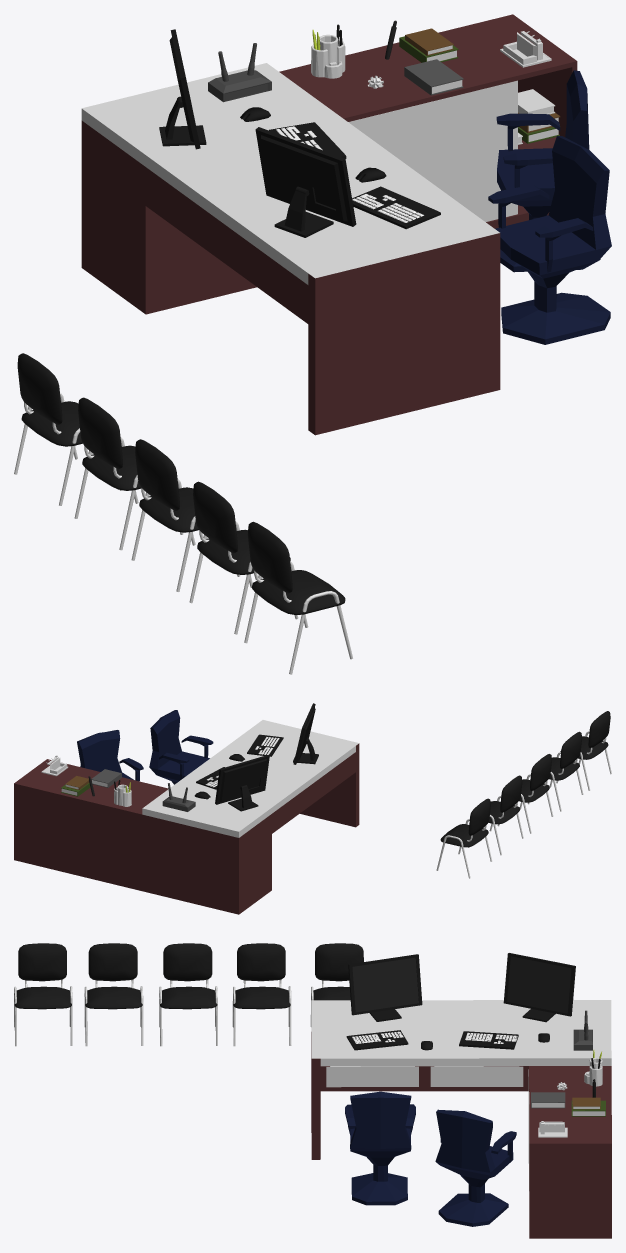
The model's file is recepcion.fbx.
The picture shows the model from 3 angles, top to bottom: view 1: azimuth 30°, elevation 25°; view 2: azimuth 150°, elevation 25°; view 3: azimuth 270°, elevation 25°; orthographic projection. The views are drawn at different scales.
Parts seen in each view (by area): view 1: off table, Cube.005, cuboard door, monitor.001, Cube.000, Chair01.001, cuboard door1, Chair01.005, Chair01.003, Chair01.004, Chair01.002, monitor (+5 smaller); view 2: off table, Cube.005, monitor, Cube.000, Chair01.005, Chair01.004, Chair01.002, Chair01.003, Chair01.001, monitor.001, keyboard.001, wifi (+3 smaller); view 3: off table, Cube.000, Cube.005, monitor.001, draw 1, monitor, Chair01.002, Chair01.004, Chair01.003, Chair01.001, Chair01.005, keyboard (+4 smaller).
Part boxes in pixels (bbox=[...]): off table: bbox=[81, 14, 577, 435]; Cube.005: bbox=[488, 136, 611, 344]; cuboard door: bbox=[442, 80, 517, 221]; monitor.001: bbox=[255, 127, 356, 237]; Cube.000: bbox=[496, 70, 600, 272]; Chair01.001: bbox=[244, 521, 352, 674]; cuboard door1: bbox=[348, 99, 442, 190]; Chair01.005: bbox=[14, 353, 121, 505]; Chair01.003: bbox=[131, 439, 240, 591]; Chair01.004: bbox=[74, 397, 183, 550]; Chair01.002: bbox=[189, 481, 298, 634]; monitor: bbox=[159, 29, 206, 149]; off table: bbox=[14, 720, 359, 914]; Cube.005: bbox=[149, 710, 213, 784]; monitor: bbox=[215, 755, 269, 811]; Cube.000: bbox=[77, 730, 143, 781]; Chair01.005: bbox=[436, 798, 492, 878]; Chair01.004: bbox=[468, 775, 523, 855]; Chair01.002: bbox=[527, 731, 583, 811]; Chair01.003: bbox=[497, 754, 553, 833]; Chair01.001: bbox=[556, 711, 611, 790]; monitor.001: bbox=[293, 703, 318, 764]; keyboard.001: bbox=[247, 734, 283, 756]; wifi: bbox=[162, 783, 195, 811]; off table: bbox=[311, 1000, 611, 1238]; Cube.000: bbox=[435, 1109, 516, 1226]; Cube.005: bbox=[345, 1091, 415, 1205]; monitor.001: bbox=[348, 954, 422, 1021]; draw 1: bbox=[326, 1066, 523, 1087]; monitor: bbox=[503, 953, 575, 1022]; Chair01.002: bbox=[84, 943, 143, 1046]; Chair01.004: bbox=[232, 943, 291, 1046]; Chair01.003: bbox=[159, 943, 217, 1046]; Chair01.001: bbox=[14, 943, 72, 1046]; Chair01.005: bbox=[310, 943, 363, 1026]; keyboard: bbox=[459, 1031, 518, 1049].
Size of the model in its own units: 1639 by 562 by 1894.
